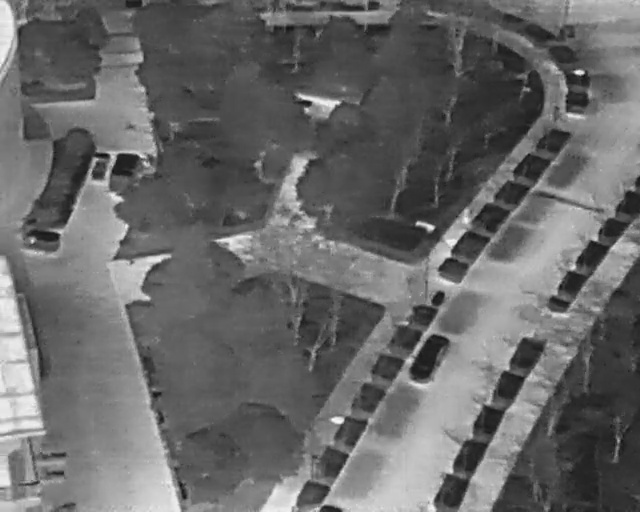Bicycle: (32, 448, 70, 463), (42, 468, 68, 479), (51, 501, 79, 510)
Car: (400, 325, 453, 391), (318, 504, 341, 510)
DontCare: (90, 156, 109, 182)
OtherVehicle: (106, 147, 141, 193), (23, 224, 63, 256)
Person: (462, 207, 473, 228), (551, 104, 562, 124)
